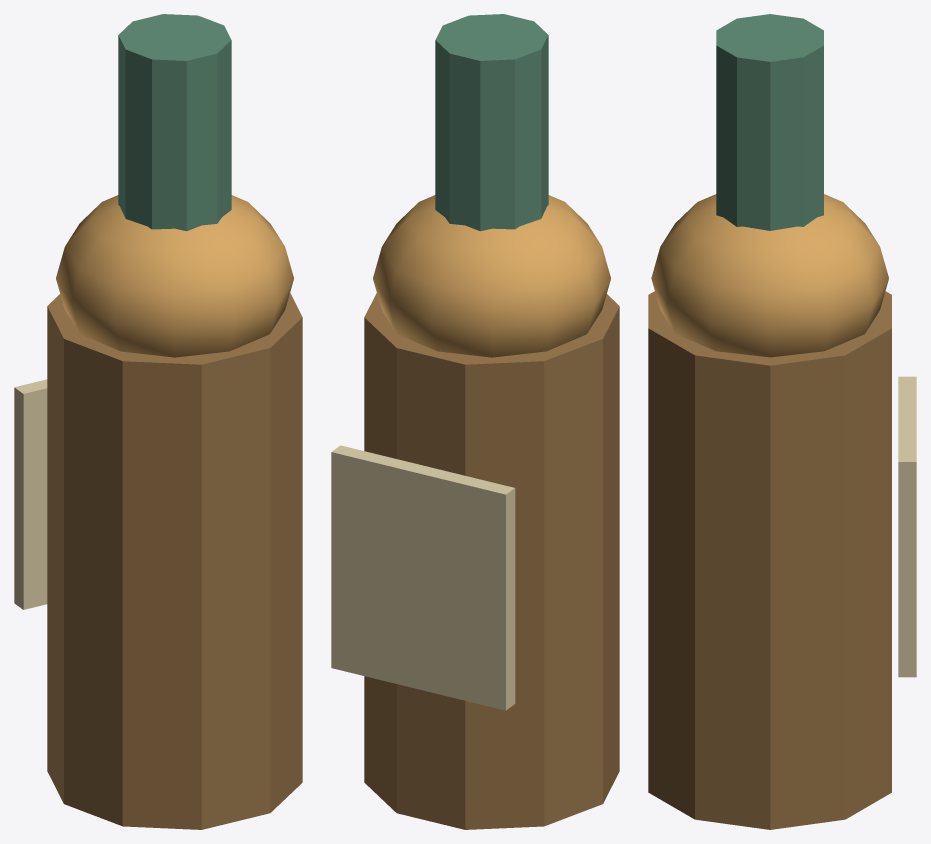
Rendered from molotov.glb.
3 views of the same model, side by side, from view 1: azimuth 30°, elevation 25°; view 2: azimuth 150°, elevation 25°; view 3: azimuth 270°, elevation 25° (orthographic).
Parts seen in each view (by area): view 1: molotov; view 2: molotov; view 3: molotov.
Part boxes in pixels (x1,y1,x2,y2): molotov: [14, 14, 302, 829]; molotov: [331, 14, 619, 829]; molotov: [648, 14, 916, 829].
Bounding box in the file's own units: 0.14 × 0.445 × 0.1466.
